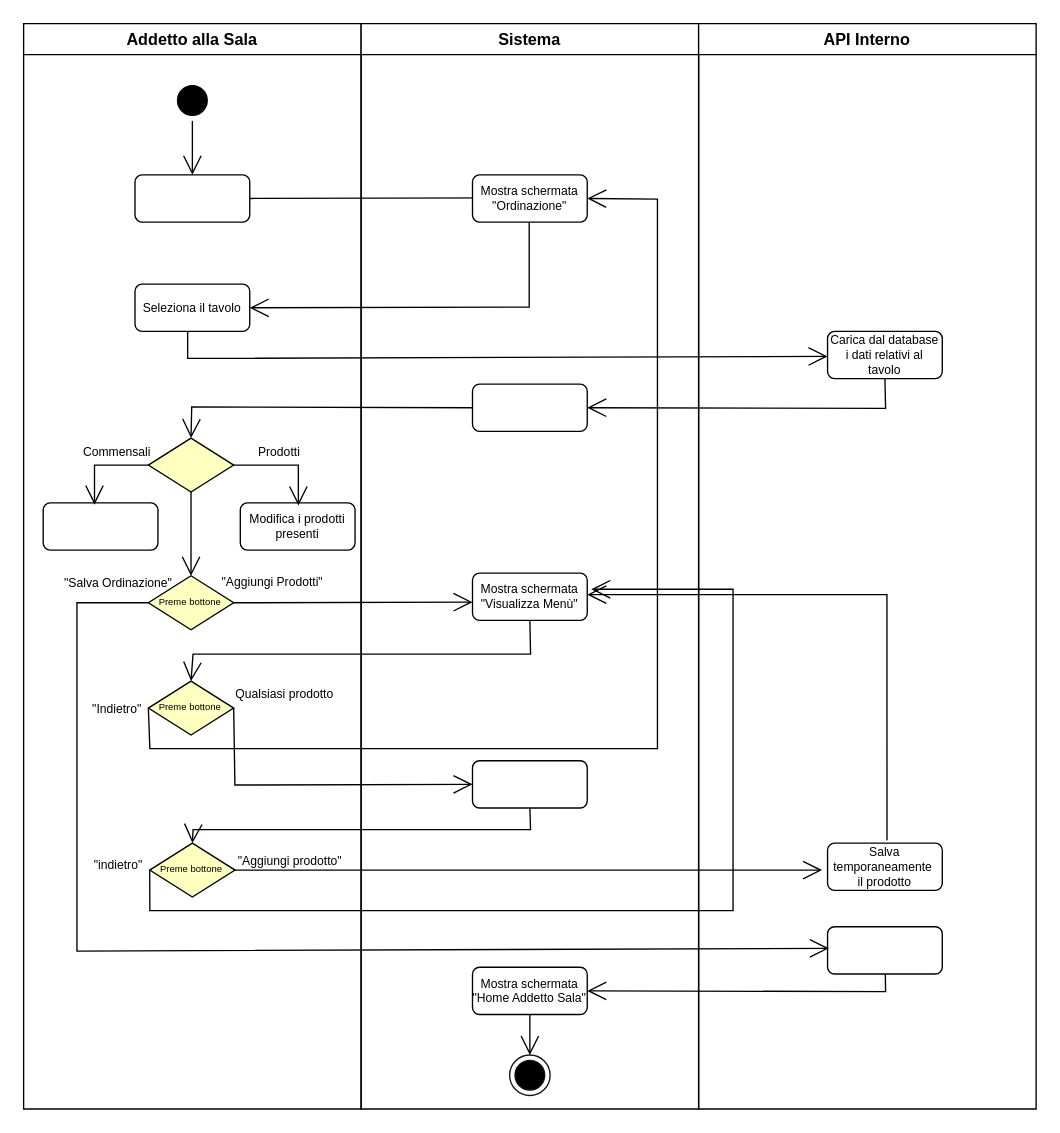
Image size: 1060x1133. Some labels were removed from this diagram. The centre of each missing label's shape, as x and y in pixels:
Crea/modifica conto con i nuovi dati: point 884,949
IModifica i dati: point 190,464
Modifica il numero dei commensali: point 100,526
Mostra i dati relativi al tavolo: point 529,407
Mostra schermata "Visualizza prodotto": point 529,783
Preme il bottone "Ordinazioni": point 192,197
